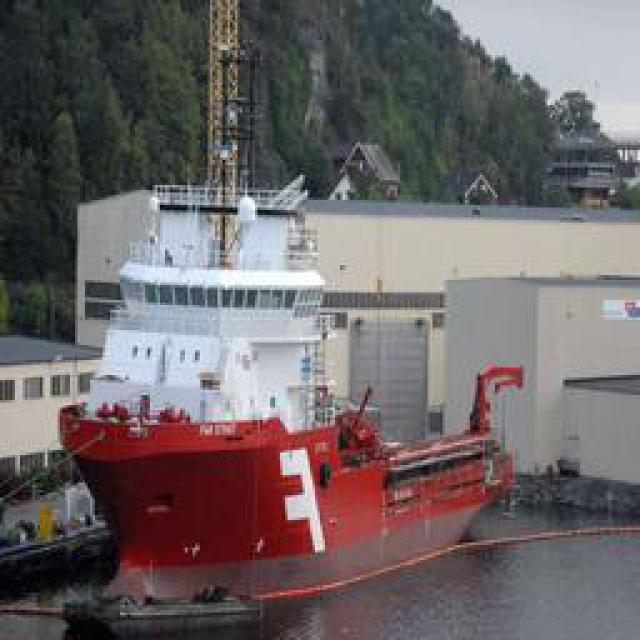Ship: (65, 319, 528, 629)
